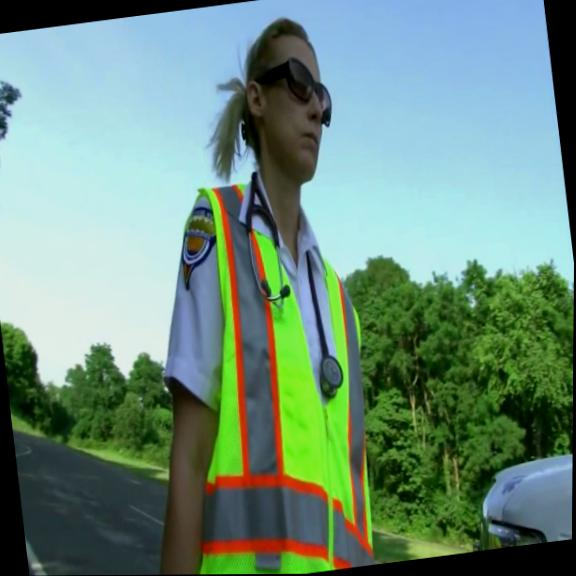safety_vest: (150, 164, 394, 575)
